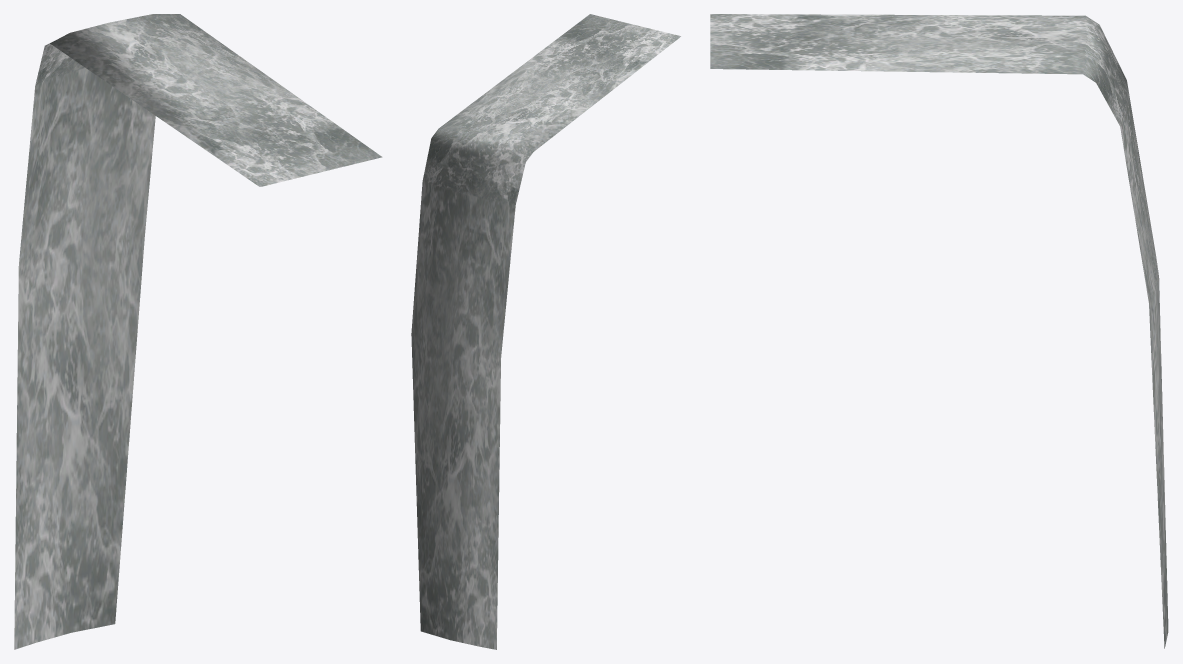
Rendered from H_shuiqu004.fbx.
The picture shows the model from 3 angles, left to right: view 1: azimuth 30°, elevation 25°; view 2: azimuth 150°, elevation 25°; view 3: azimuth 270°, elevation 25°; orthographic projection. The views are drawn at different scales.
Visible parts, largest first — view 1: H_shuiqu004; view 2: H_shuiqu004; view 3: H_shuiqu004.
Part boxes in pixels (x1,y1,x2,y2): H_shuiqu004: [14, 14, 382, 649]; H_shuiqu004: [411, 14, 680, 649]; H_shuiqu004: [710, 14, 1168, 648].
Bounding box in the file's own units: 367 × 1720 × 1206.
